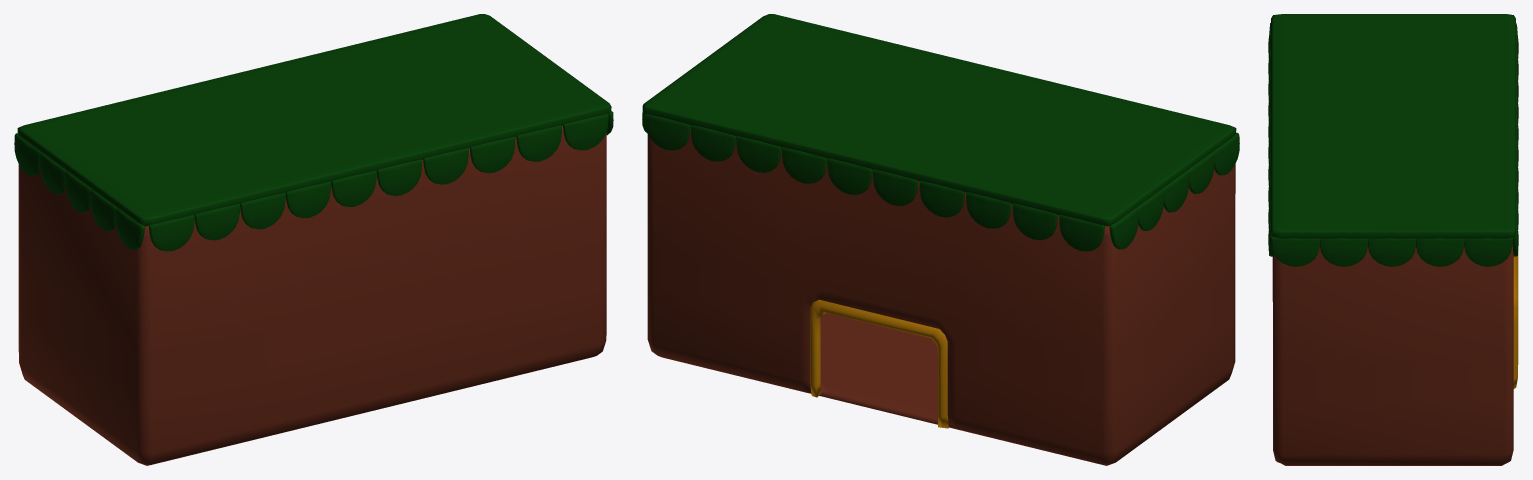
Rendered from HouseLarge.fbx.
3 views of the same model, side by side, from view 1: azimuth 30°, elevation 25°; view 2: azimuth 150°, elevation 25°; view 3: azimuth 270°, elevation 25° (orthographic). The views are drawn at different scales.
Parts seen in each view (by area): view 1: HouseLarge10, HouseLarge14; view 2: HouseLarge10, HouseLarge14, HouseLarge9; view 3: HouseLarge14, HouseLarge10, HouseLarge9.
Part boxes in pixels (x1,y1,x2,y2): HouseLarge10: (18,126,606,465); HouseLarge14: (14,14,613,251); HouseLarge10: (647,128,1235,465); HouseLarge14: (642,14,1239,251); HouseLarge9: (810,299,948,428); HouseLarge14: (1268,14,1518,266); HouseLarge10: (1272,244,1513,465); HouseLarge9: (1513,251,1518,388).
Size of the model in its own units: 4.56 by 2.32 by 2.19.
